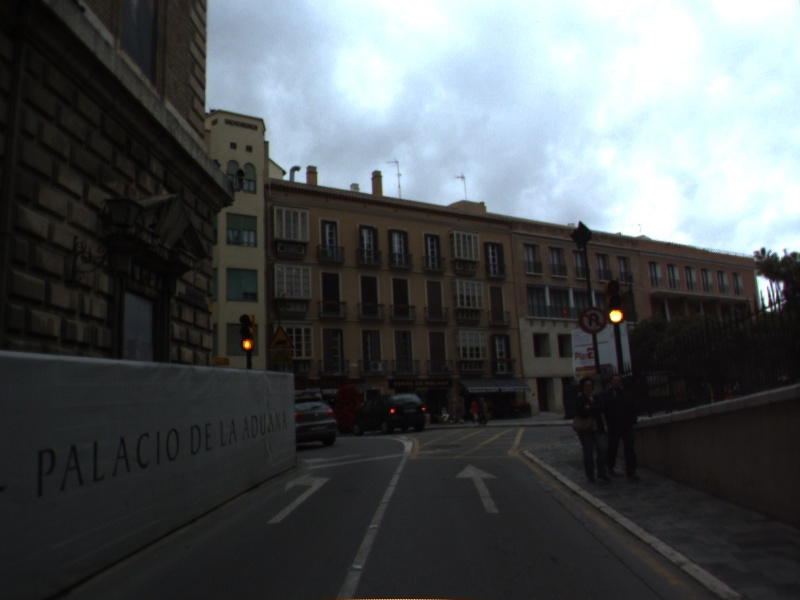LEFT: (265, 470, 333, 526)
STRAIGHT: (452, 461, 504, 515)
